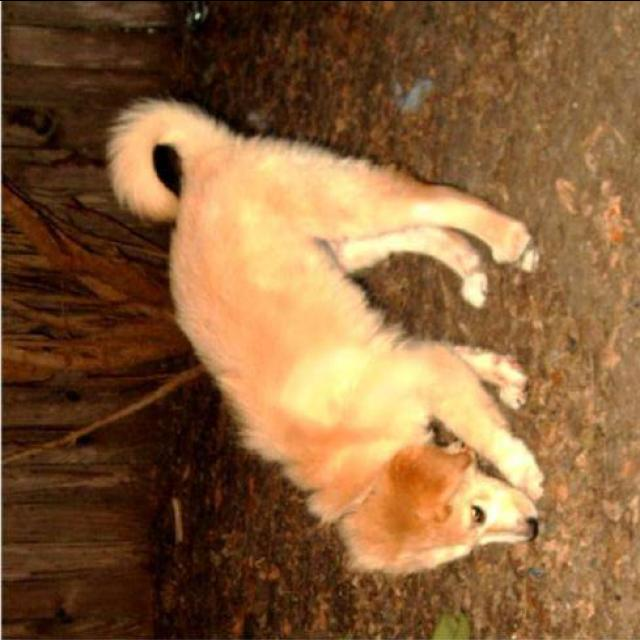dog: (98, 71, 560, 588)
